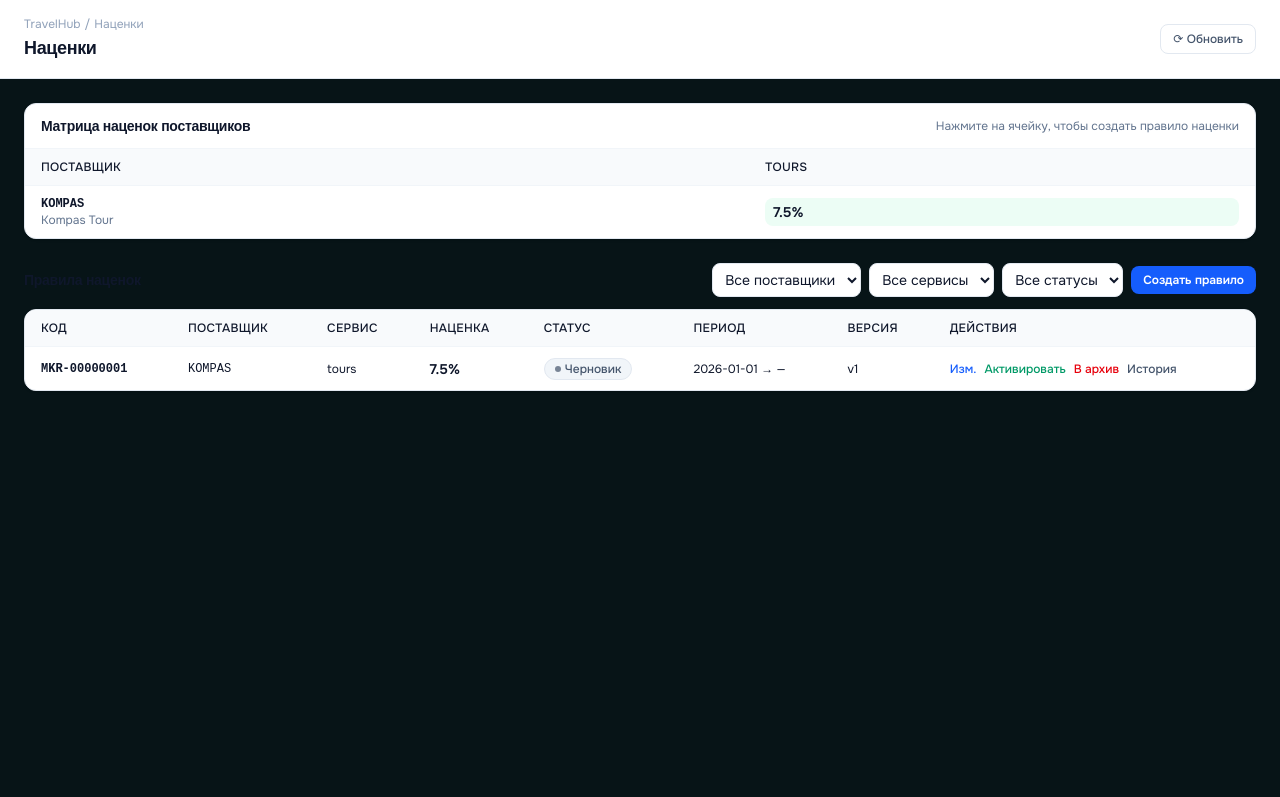
Scenario: MarkupAdminPage — Supplier × Service matrix + rules (§4.1/§4.2) › клиентская валидация ставки: «10» (percent-as-number) блокирует отправку
The image size is (1280, 797).
Click the button "Создать правило".
click(1194, 280)  # box [1131, 266, 1256, 294]
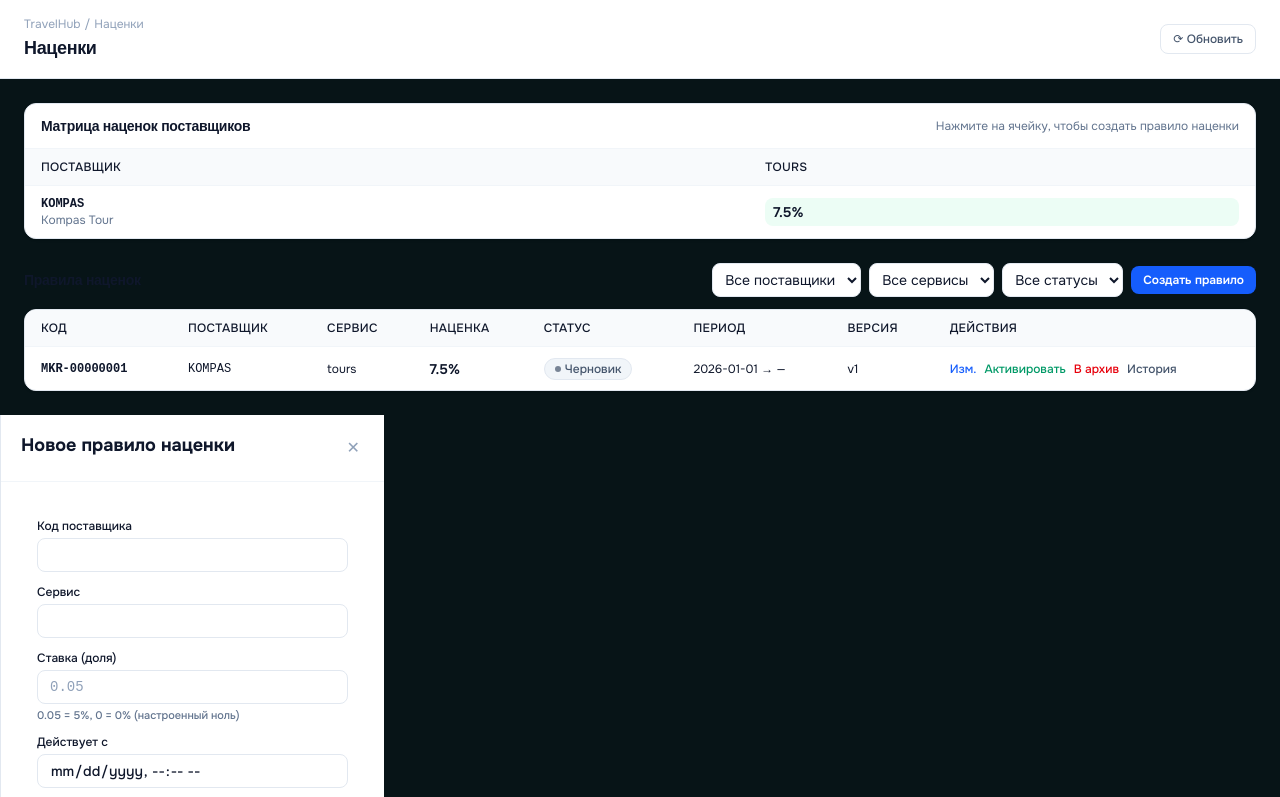
Type "KOMPAS" into the field labelled "Код поставщика".
click(192, 555); type("KOMPAS")  # box [37, 538, 348, 572]
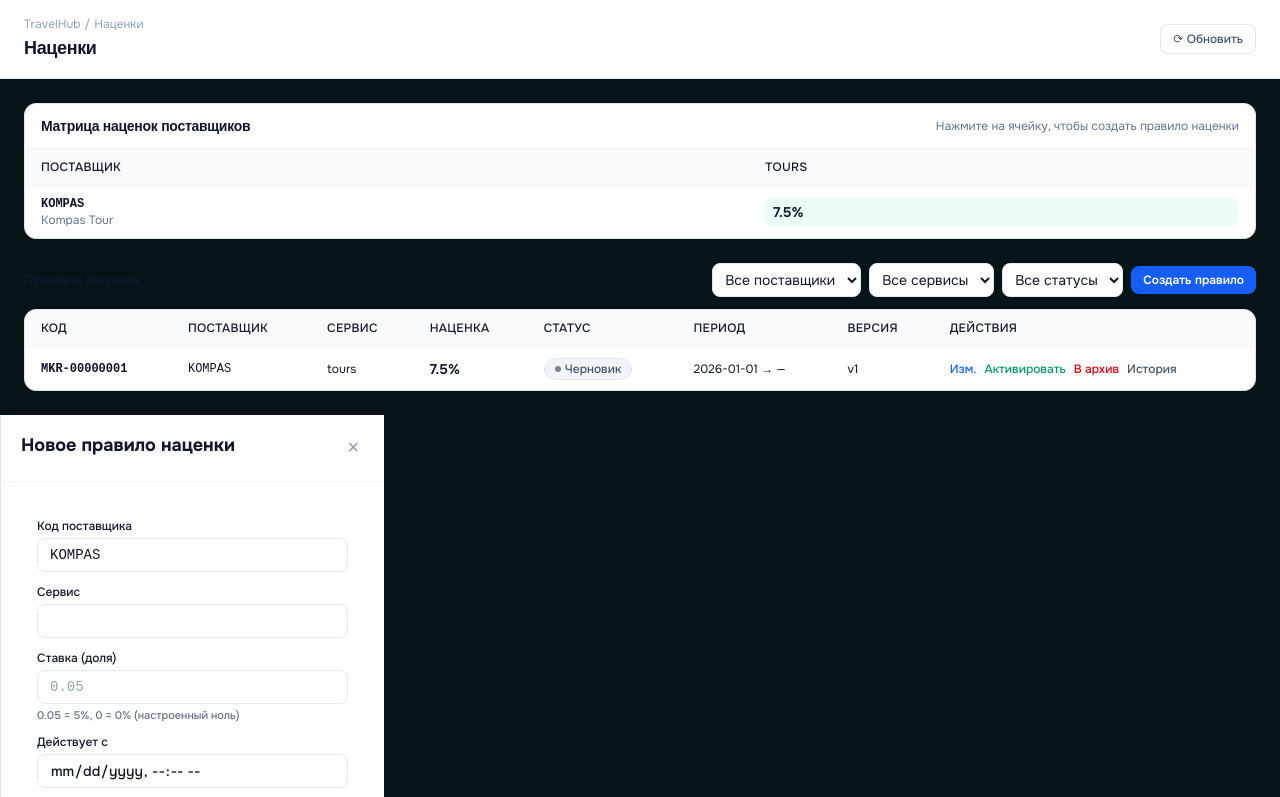
Type "tours" into the field labelled "Сервис".
click(192, 621); type("tours")  # box [37, 604, 348, 638]
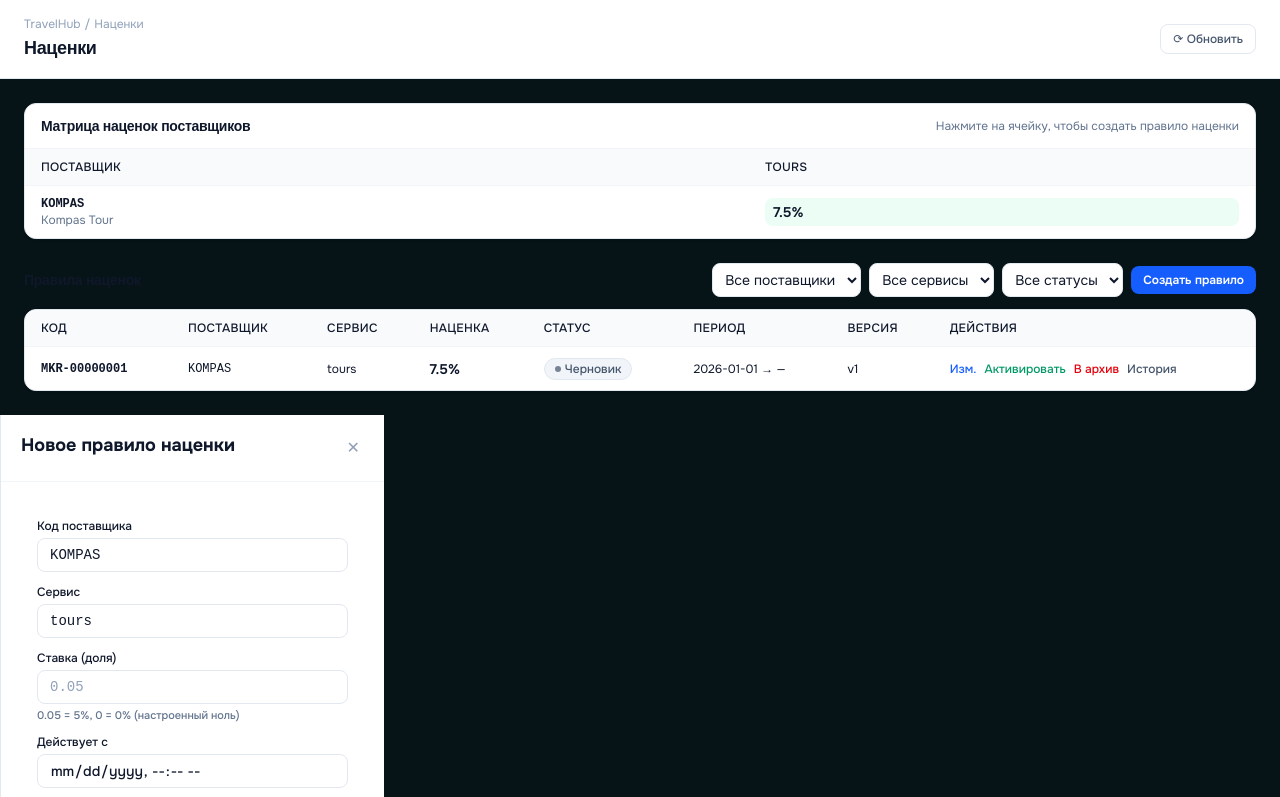
Type "10" into the field with placeholder "0.05".
click(192, 687); type("10")  # box [37, 670, 348, 704]
(page scrolled)
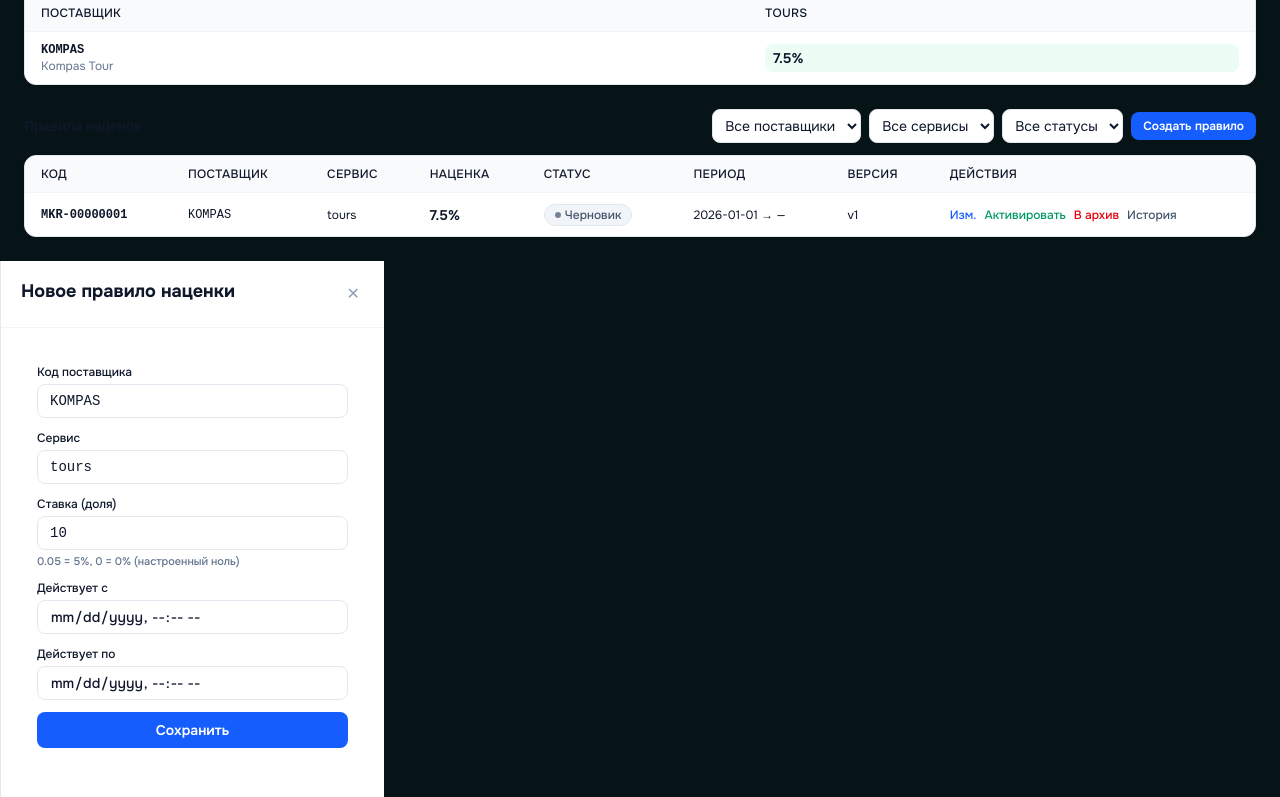
Click the button "Сохранить".
click(192, 730)  # box [37, 712, 348, 748]
(page scrolled)
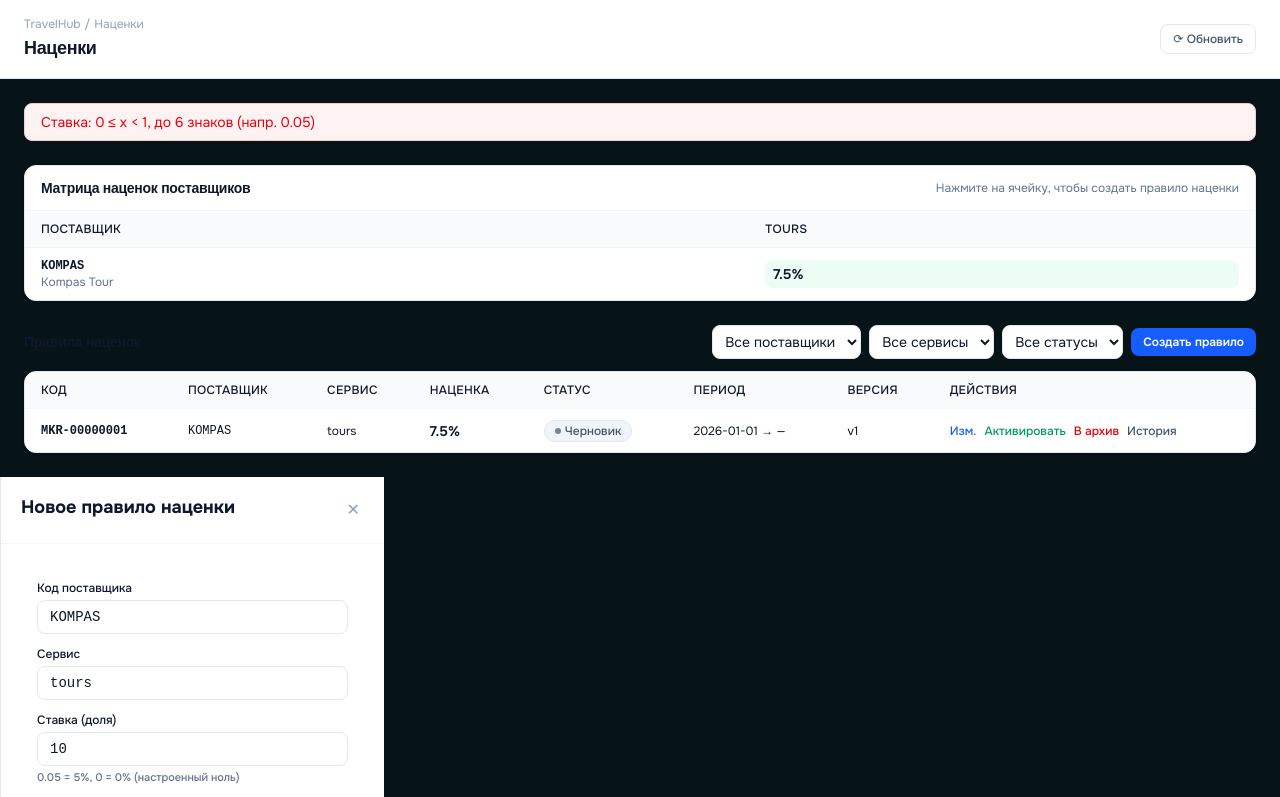
Check: the text "Ставка: 0 ≤ x < 1, до 6 знаков (напр. 0.05)" is shown, box [24, 103, 1256, 141]
